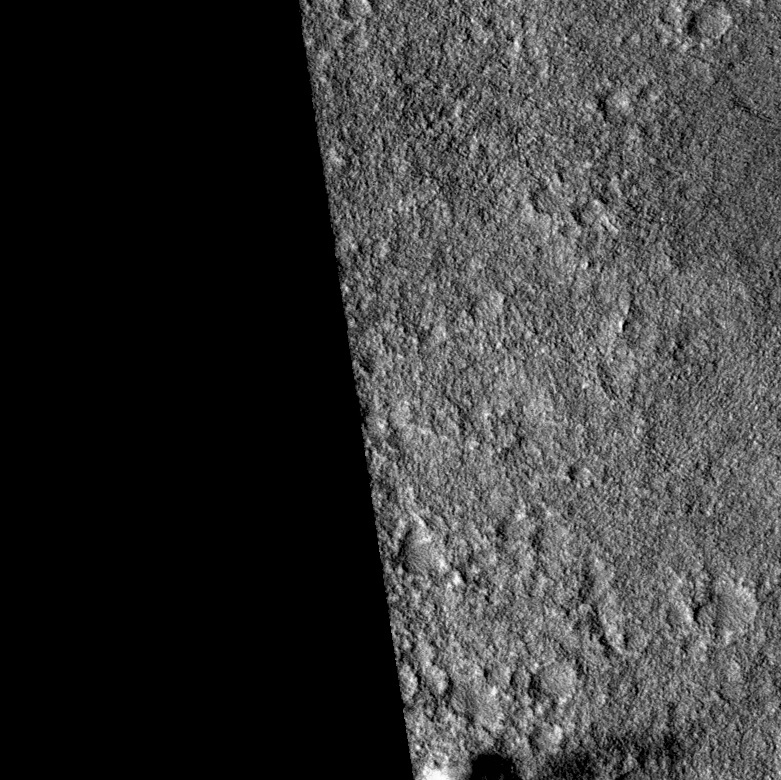dust_devil: (414, 716, 700, 780)
